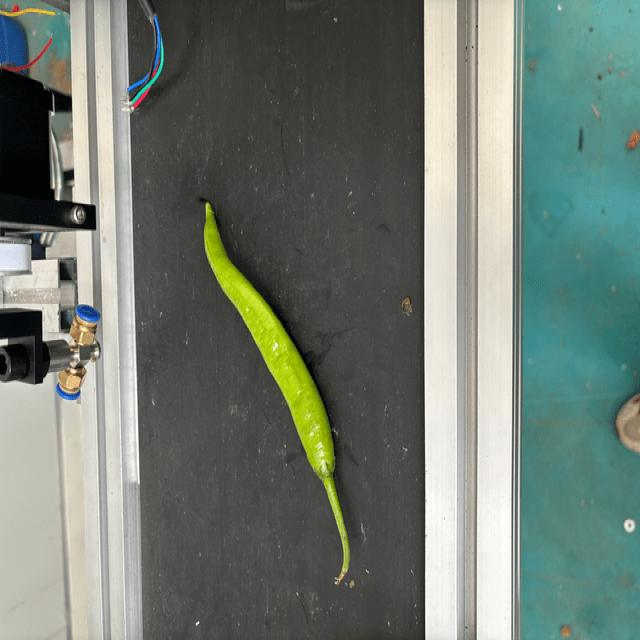chili: (201, 198, 336, 483)
